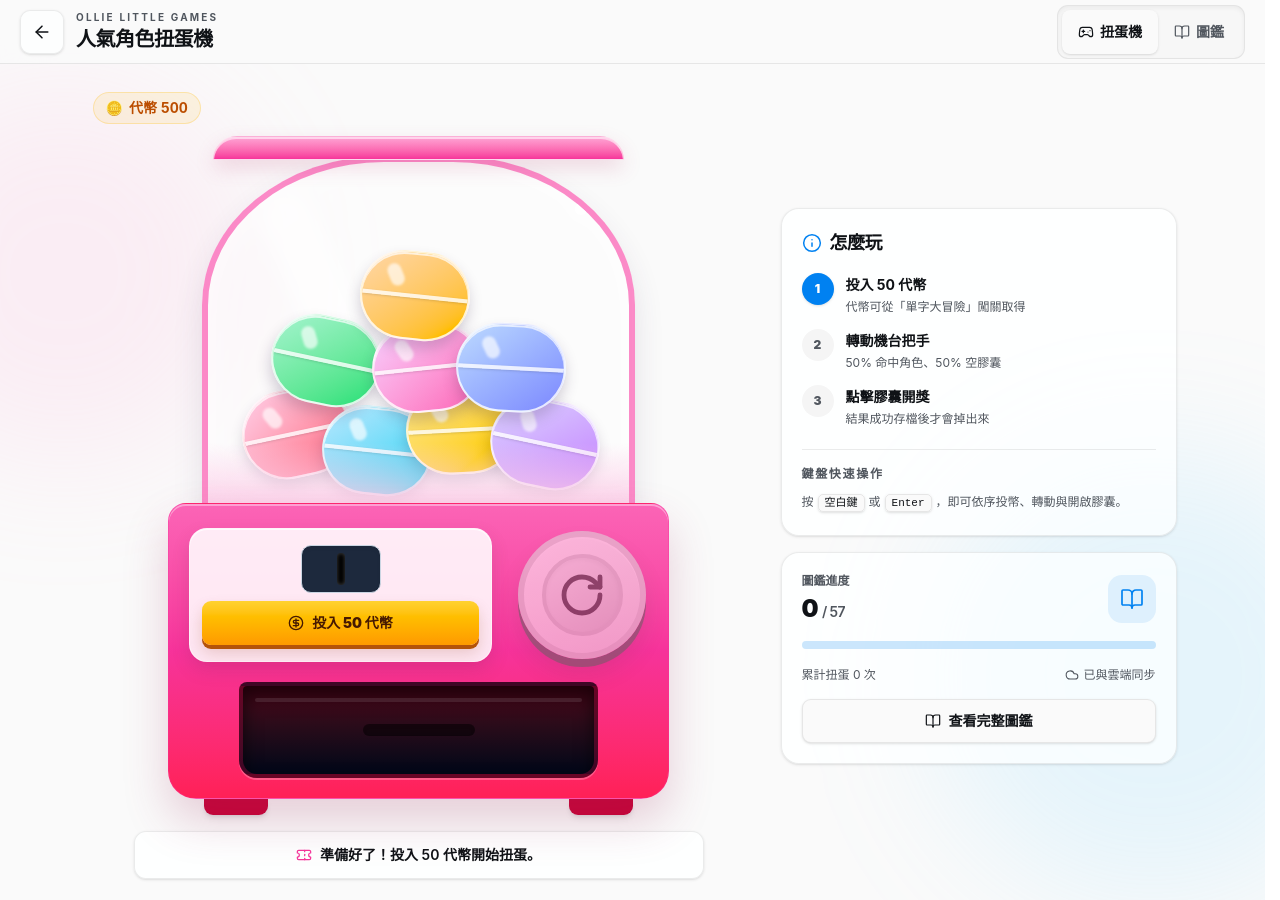
Test: GachaMachine draw guard › cancels a draw when the collection reset generation changed
Click the button "投入 50 代幣" at (340, 623), box [202,601,479,645]
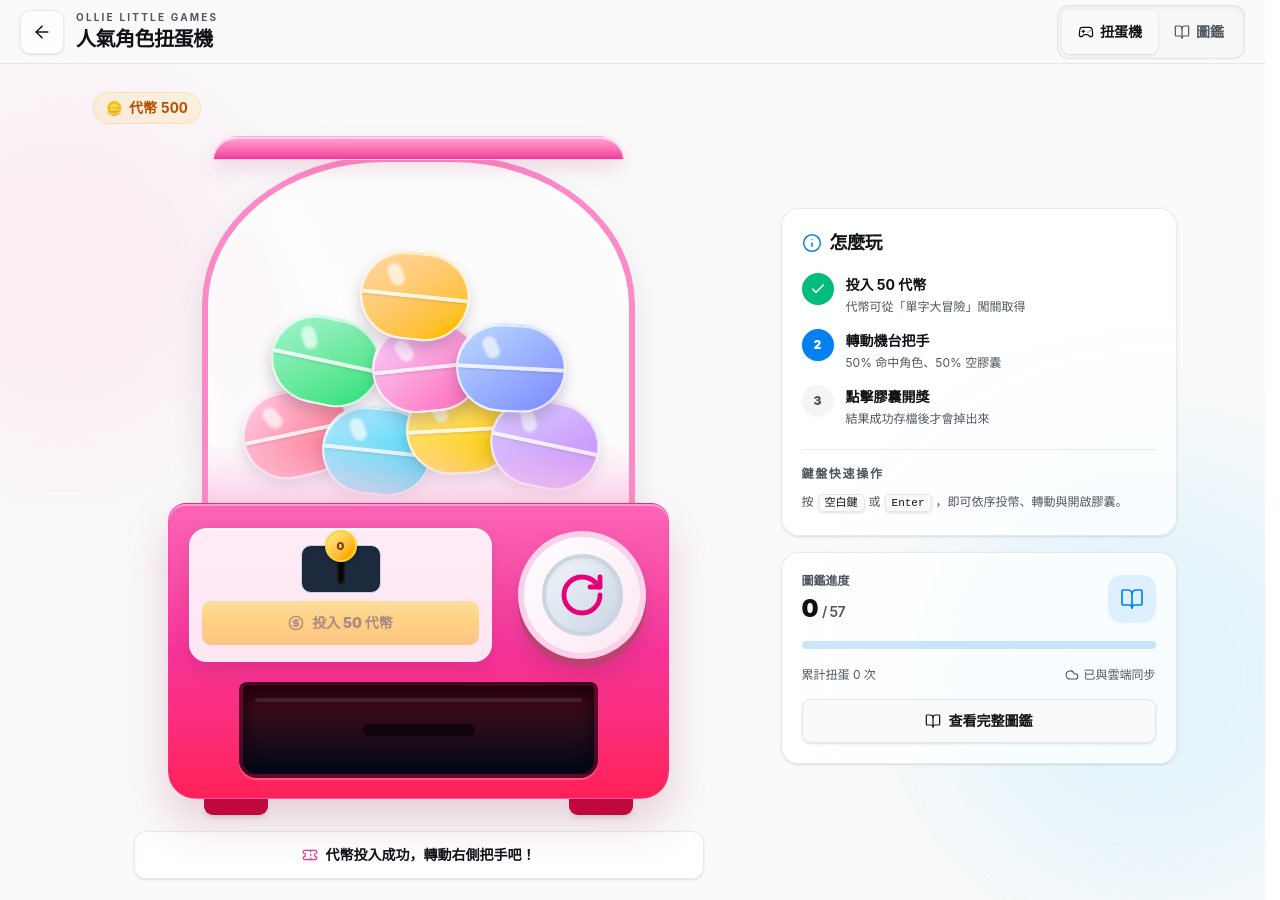
Click the button named "轉動扭蛋機把手" at (582, 595), box [518,531,646,659]
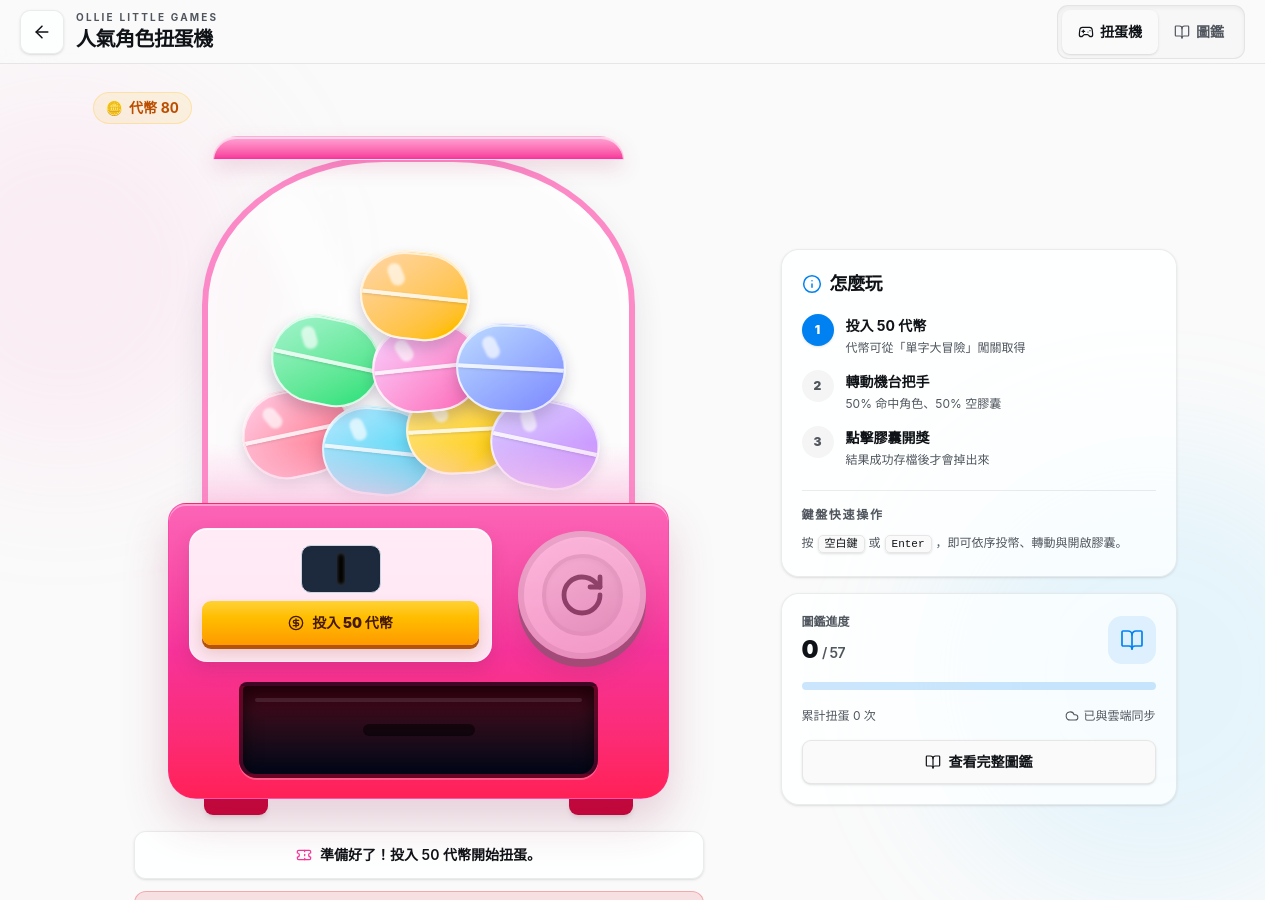
Expected: the text "代幣 80" is shown, [129,99,179,116]
Expected: the button "投入 50 代幣" is enabled, [202,601,479,645]
